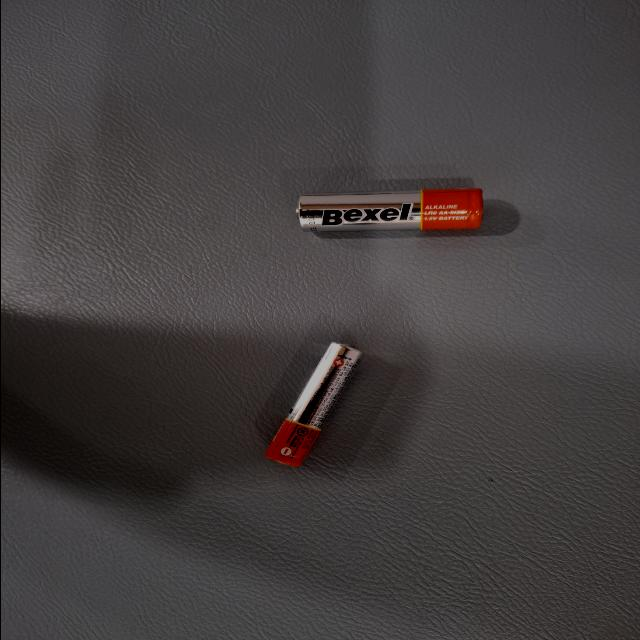AA: (158, 407, 344, 451)
AAA: (278, 173, 374, 298)
